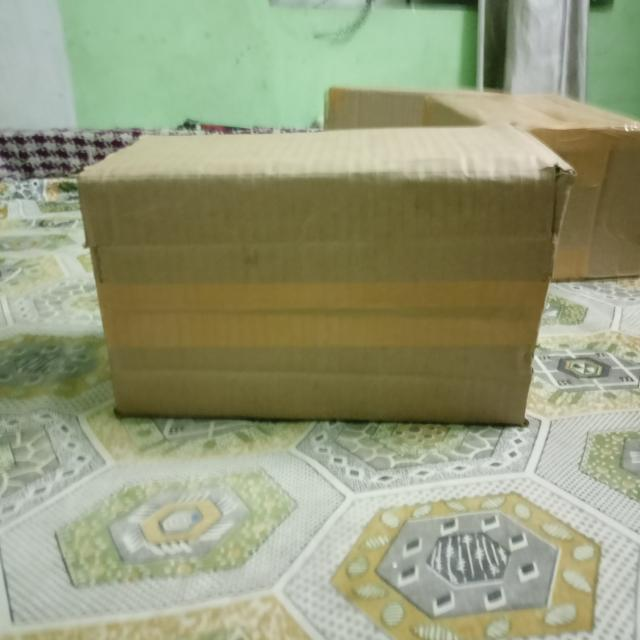box: (79, 174, 568, 425)
